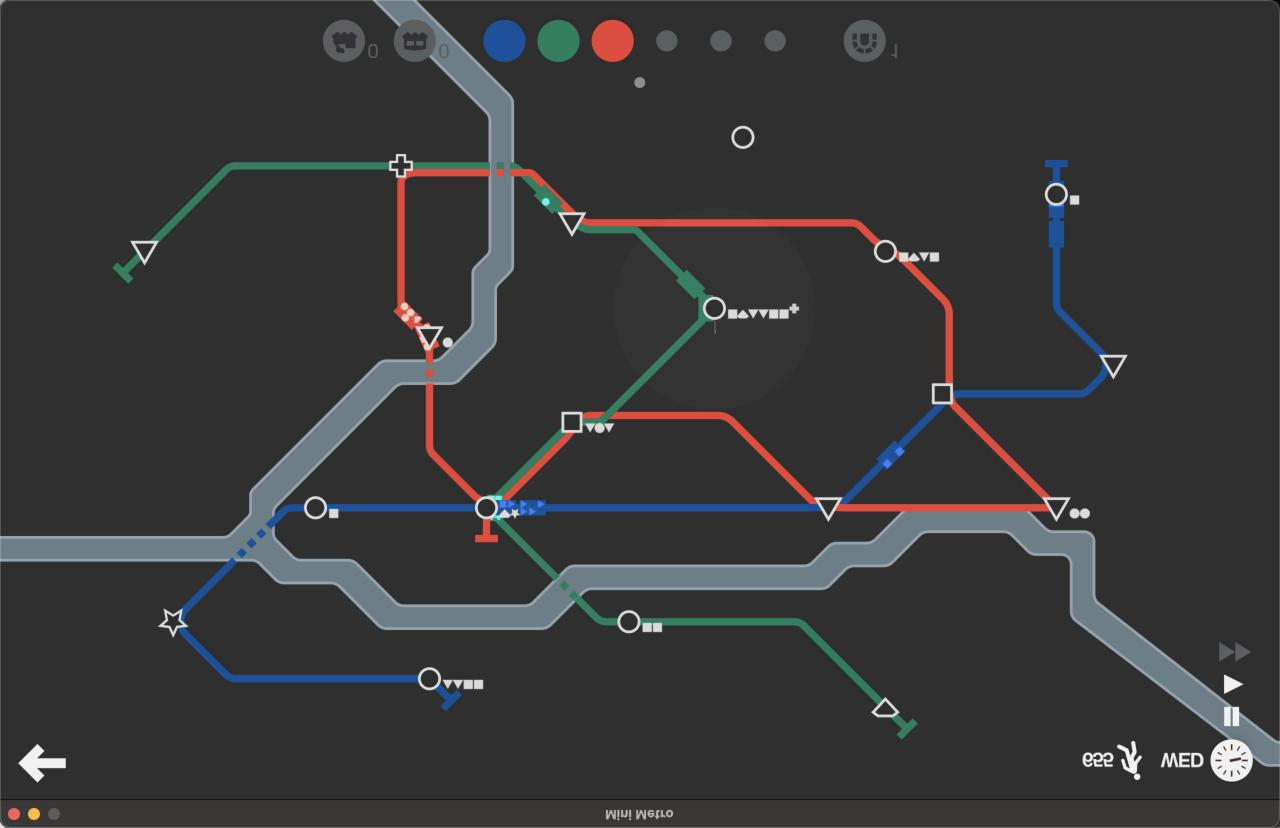BLUE LINE: (185, 505, 303, 617), (179, 631, 420, 682), (842, 405, 945, 504), (1053, 208, 1105, 353), (956, 369, 1108, 398), (499, 505, 824, 513), (330, 503, 474, 511), (1045, 159, 1068, 182), (439, 685, 461, 709)
DARK GREEN LINE: (579, 225, 709, 426), (641, 616, 883, 704), (152, 162, 388, 242), (492, 520, 618, 625), (496, 427, 564, 496), (521, 176, 563, 213), (412, 162, 523, 170), (110, 256, 141, 282), (892, 713, 921, 739), (586, 419, 603, 424)
ORANGE LINE: (616, 412, 811, 503), (951, 403, 1049, 497), (426, 351, 481, 501), (585, 219, 879, 245), (408, 169, 579, 213), (897, 257, 954, 382), (505, 433, 575, 500), (397, 179, 426, 329), (835, 505, 1050, 513), (475, 522, 501, 543), (583, 410, 605, 418)
